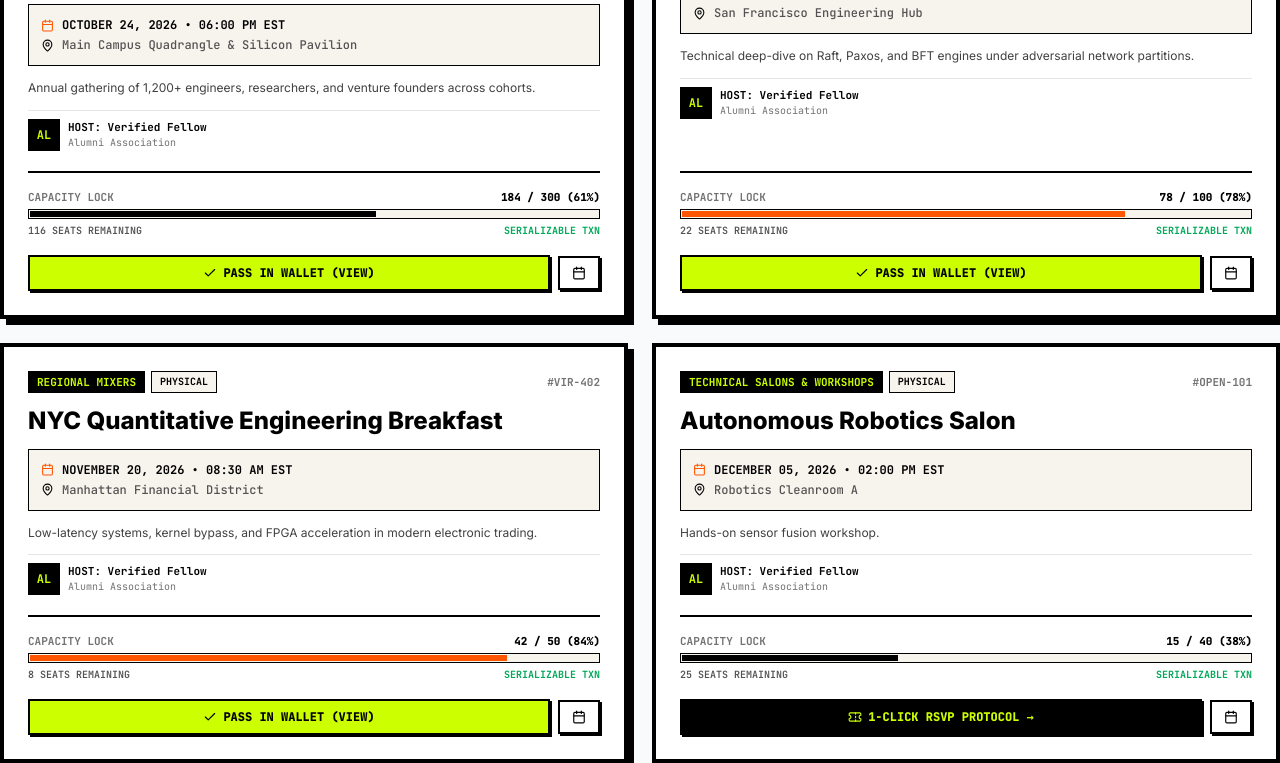
Test: EventListContent (Events, Reunions & Capacity RSVPs) › opens RSVP registration modal and confirms 1-click registration
(page scrolled)
Expected: the text "1-CLICK RSVP PROTOCOL →" is shown, [868,709,1034,725]
Click the button "1-CLICK RSVP PROTOCOL →": click(941, 717) [680,699,1202,735]
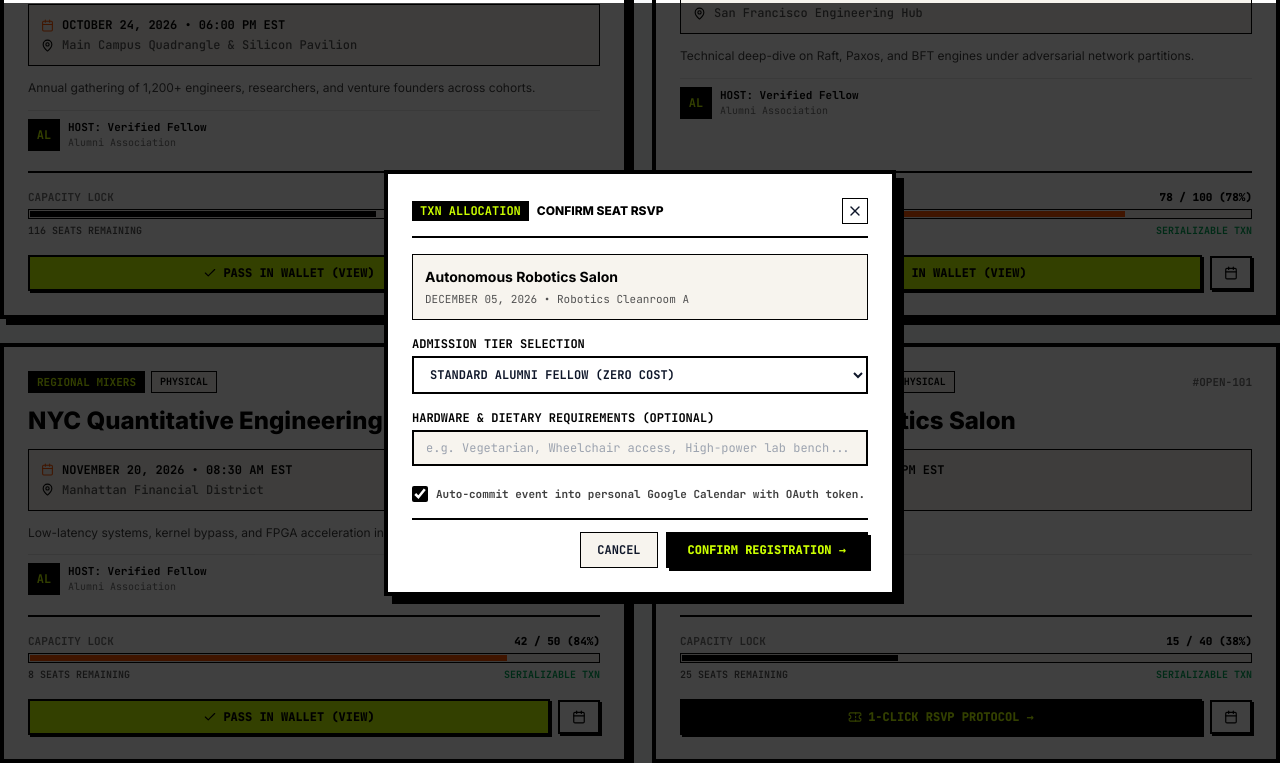
Expected: the text "Confirm Seat RSVP" is shown, [537,203,664,219]
Expected: the text "Admission Tier Selection" is shown, [412,336,585,352]
Click the button "Confirm Registration →": click(767, 550) [666,532,868,568]
(page scrolled)
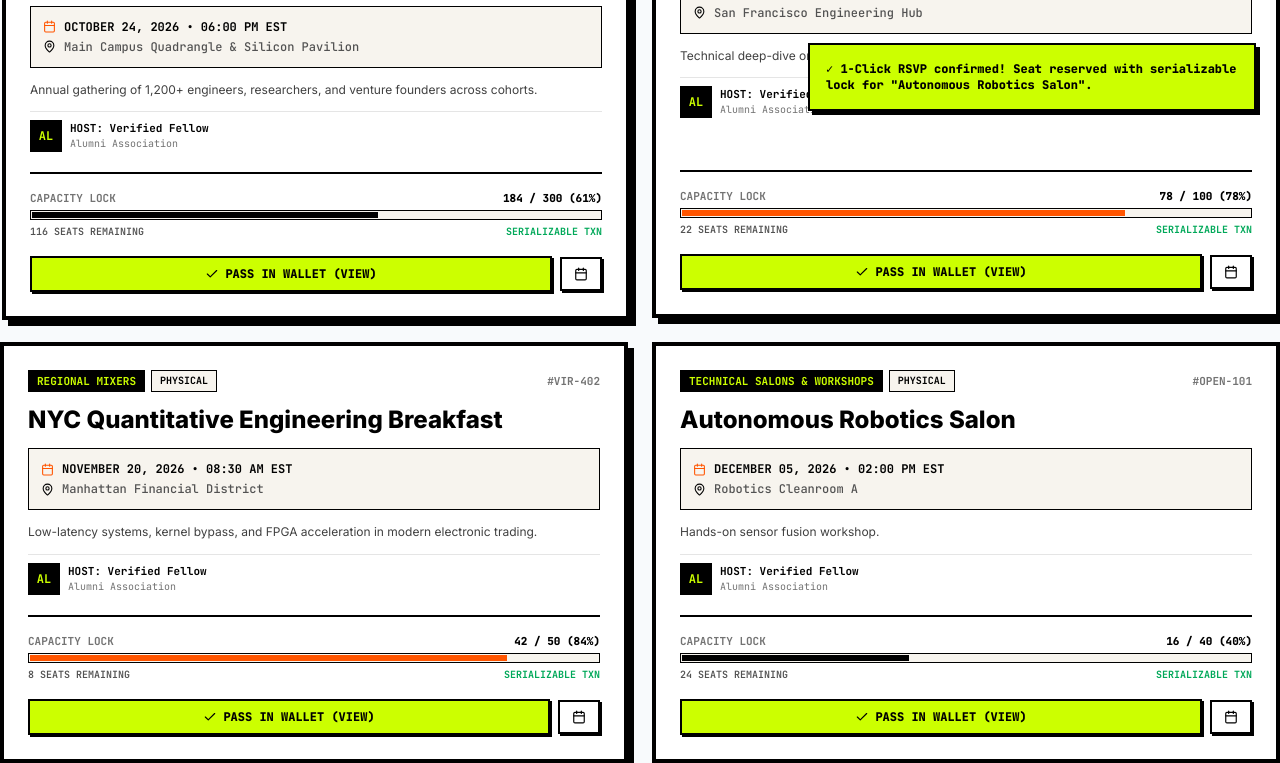
Expected: the text "1-Click RSVP confirmed! Seat reserved with serializable lock" is shown, [826,61,1236,93]
